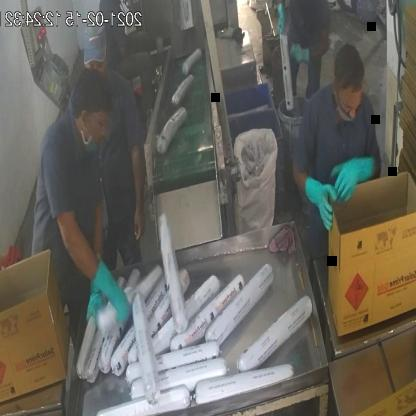glove: (91, 247, 133, 329), (331, 144, 381, 208), (295, 168, 336, 235)
no_glove: (128, 131, 146, 251)
